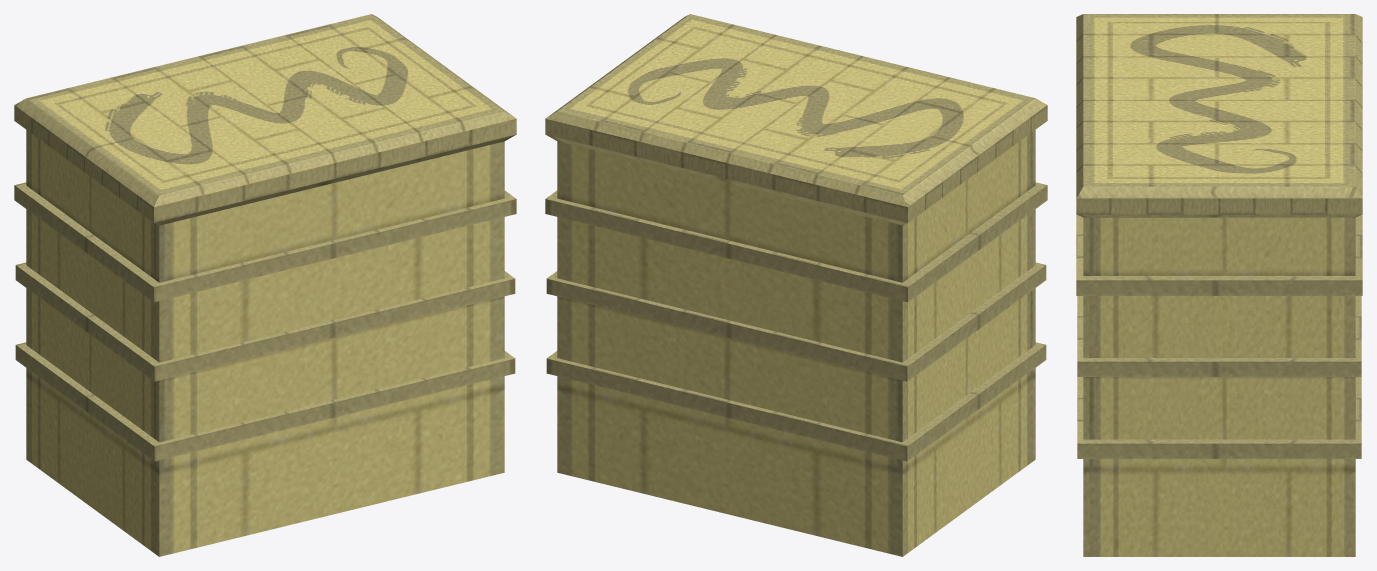
The model's file is Platform_9.fbx.
3 renders of one model, left to right at view 1: azimuth 30°, elevation 25°; view 2: azimuth 150°, elevation 25°; view 3: azimuth 270°, elevation 25°, orthographic. The views are drawn at different scales.
Parts seen in each view (by area): view 1: Platform_9; view 2: Platform_9; view 3: Platform_9.
Boxes of the visible parts, box(x1,y1,x2,y2) form: Platform_9: box(14, 14, 516, 556); Platform_9: box(545, 14, 1047, 556); Platform_9: box(1076, 14, 1362, 556).
Size of the model in its own units: 630 by 600 by 420.
Materials: 1 (1 with a texture image).
